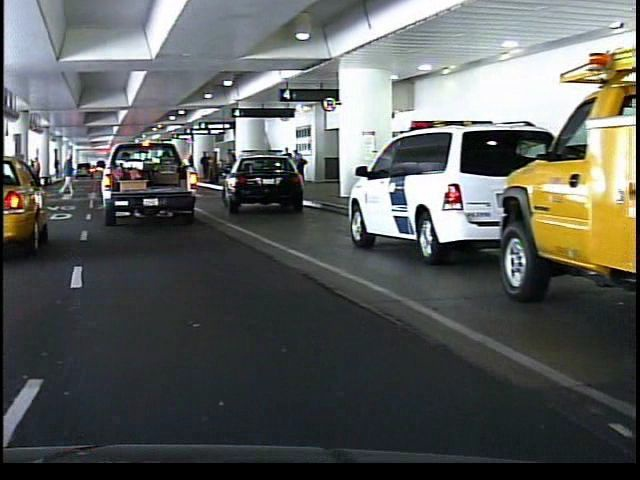person: (58, 151, 75, 198)
